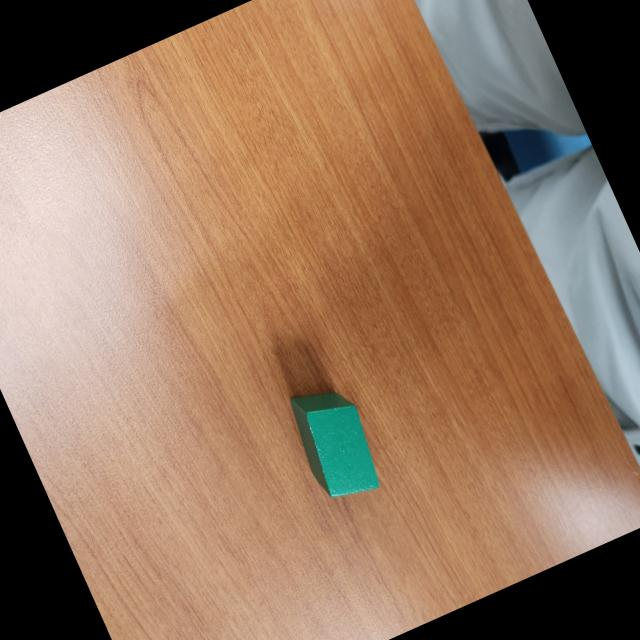green: (280, 374, 390, 510)
